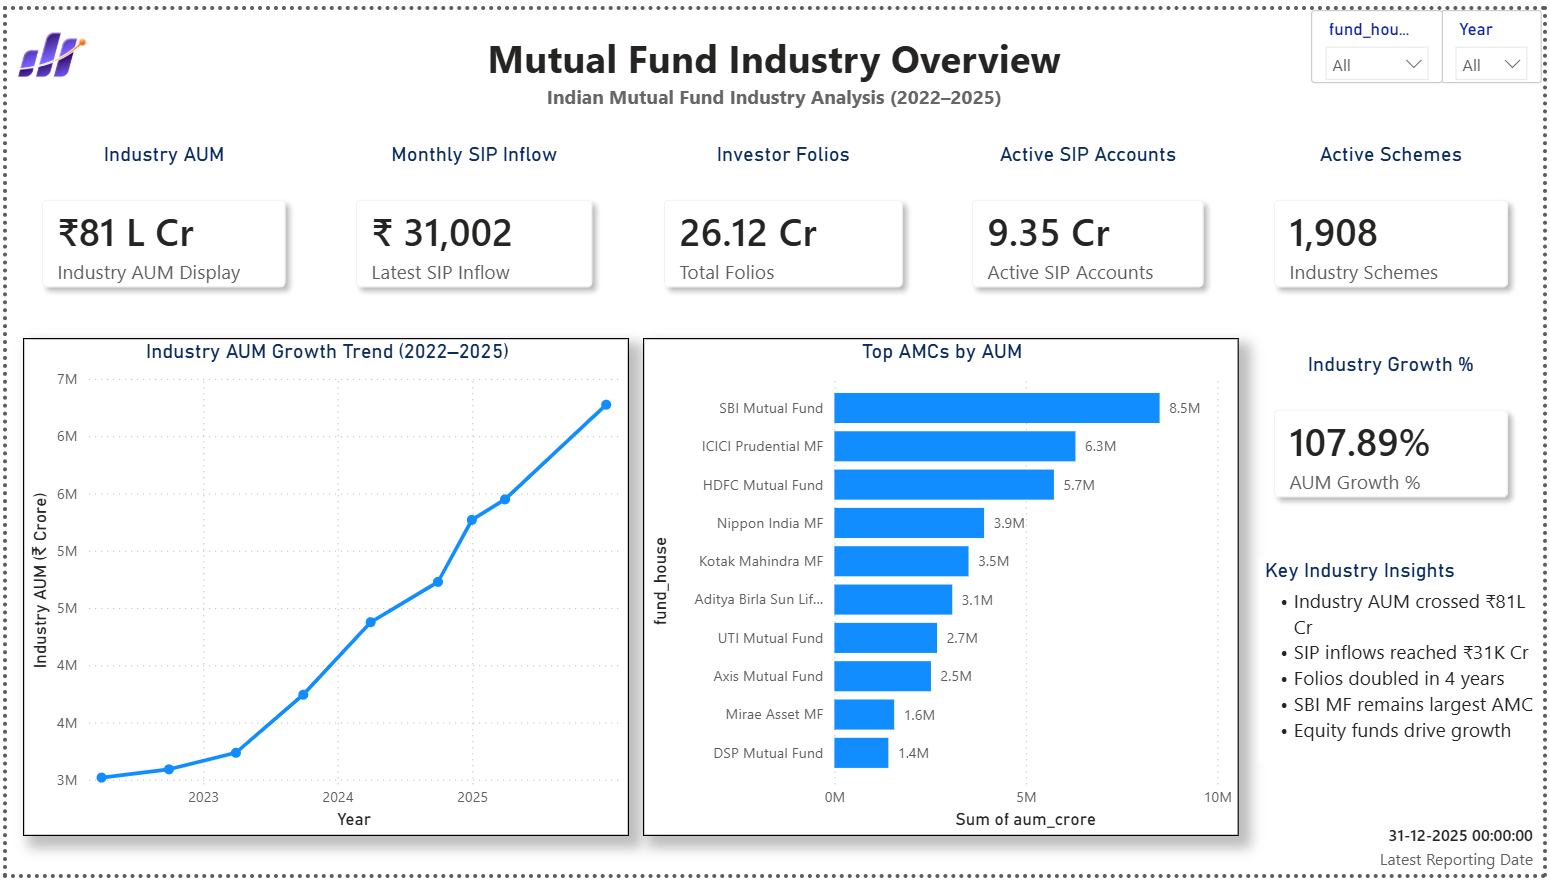

Layout of this report page (visuals, bound fields, positions):
{"tool":"powerbi","page":{"name":"Industry Overview","canvas":[1280,720],"ordinal":0},"visuals":[{"type":"textbox","box":[388.9,13.8,502.2,75],"z":0},{"type":"cardVisual","title":"Industry AUM","fields":{"Data":["03_aum_by_fund_house.Total AUM"]},"box":[0,109.5,261.8,150],"z":1000},{"type":"cardVisual","title":"Monthly SIP Inflow","fields":{"Data":["04_monthly_sip_inflows.Total SIP Inflow"]},"box":[261.8,109.5,255.7,150],"z":2000},{"type":"cardVisual","title":"Investor Folios","fields":{"Data":["06_industry_folio_count.Total Folios"]},"box":[517.5,109.5,257.2,150],"z":3000},{"type":"cardVisual","title":"Active Schemes","fields":{"Data":["01_fund_master.Total Schemes"]},"box":[1026.7,110,253.3,150],"z":4000},{"type":"cardVisual","title":"Industry Growth %","fields":{"Data":["03_aum_by_fund_house.AUM Growth %"]},"box":[1026.7,285,253.3,150],"z":5000},{"type":"cardVisual","title":"Active SIP Accounts","fields":{"Data":["04_monthly_sip_inflows.Active SIP Accounts"]},"box":[775,110,251.7,150],"z":6000},{"type":"lineChart","title":"Industry AUM Growth Trend (2022–2025)","fields":{"Category":["03_aum_by_fund_house.date.Variation.Date Hierarchy.Year","03_aum_by_fund_house.date.Variation.Date Hierarchy.Quarter","03_aum_by_fund_house.date.Variation.Date Hierarchy.Month","03_aum_by_fund_house.date.Variation.Date Hierarchy.Day"],"Y":["Sum(03_aum_by_fund_house.aum_crore)"]},"box":[13.3,273.3,505,415],"z":7000},{"type":"clusteredBarChart","title":"Top AMCs by AUM","fields":{"Category":["03_aum_by_fund_house.fund_house"],"Y":["Sum(03_aum_by_fund_house.aum_crore)"]},"box":[530,273.3,496.7,415],"z":8000},{"type":"textbox","title":"Key Industry Insights","box":[1043.3,456.7,236.7,170],"z":9000},{"type":"slicer","fields":{"Values":["03_aum_by_fund_house.date.Variation.Date Hierarchy.Year"]},"box":[1195.8,0,84.2,61.2],"z":10000},{"type":"slicer","fields":{"Values":["01_fund_master.fund_house"]},"box":[1087.1,0,110.2,61.2],"z":11000},{"type":"cardVisual","fields":{"Data":["03_aum_by_fund_house.Latest Reporting Period"]},"box":[1066.2,672.5,205,47.5],"z":12000},{"type":"image","box":[0,0,74.6,75],"z":12001}]}

Visuals, with their boxes in screenshot pixels (x1, y1, x2, y2), scaled from the page's 1280x720 canvas onto the 1550x882 screenshot:
textbox: detection(471, 17, 1079, 109)
"Industry AUM" cardVisual: detection(0, 134, 317, 318)
"Monthly SIP Inflow" cardVisual: detection(317, 134, 627, 318)
"Investor Folios" cardVisual: detection(627, 134, 938, 318)
"Active Schemes" cardVisual: detection(1243, 135, 1549, 318)
"Industry Growth %" cardVisual: detection(1243, 349, 1549, 533)
"Active SIP Accounts" cardVisual: detection(938, 135, 1243, 318)
"Industry AUM Growth Trend (2022–2025)" lineChart: detection(16, 335, 628, 843)
"Top AMCs by AUM" clusteredBarChart: detection(642, 335, 1243, 843)
"Key Industry Insights" textbox: detection(1263, 559, 1549, 768)
slicer - 03_aum_by_fund_house.date.Variation.Date Hierarchy.Year: detection(1448, 0, 1549, 75)
slicer - 01_fund_master.fund_house: detection(1316, 0, 1450, 75)
cardVisual - 03_aum_by_fund_house.Latest Reporting Period: detection(1291, 824, 1539, 881)
image: detection(0, 0, 90, 92)
